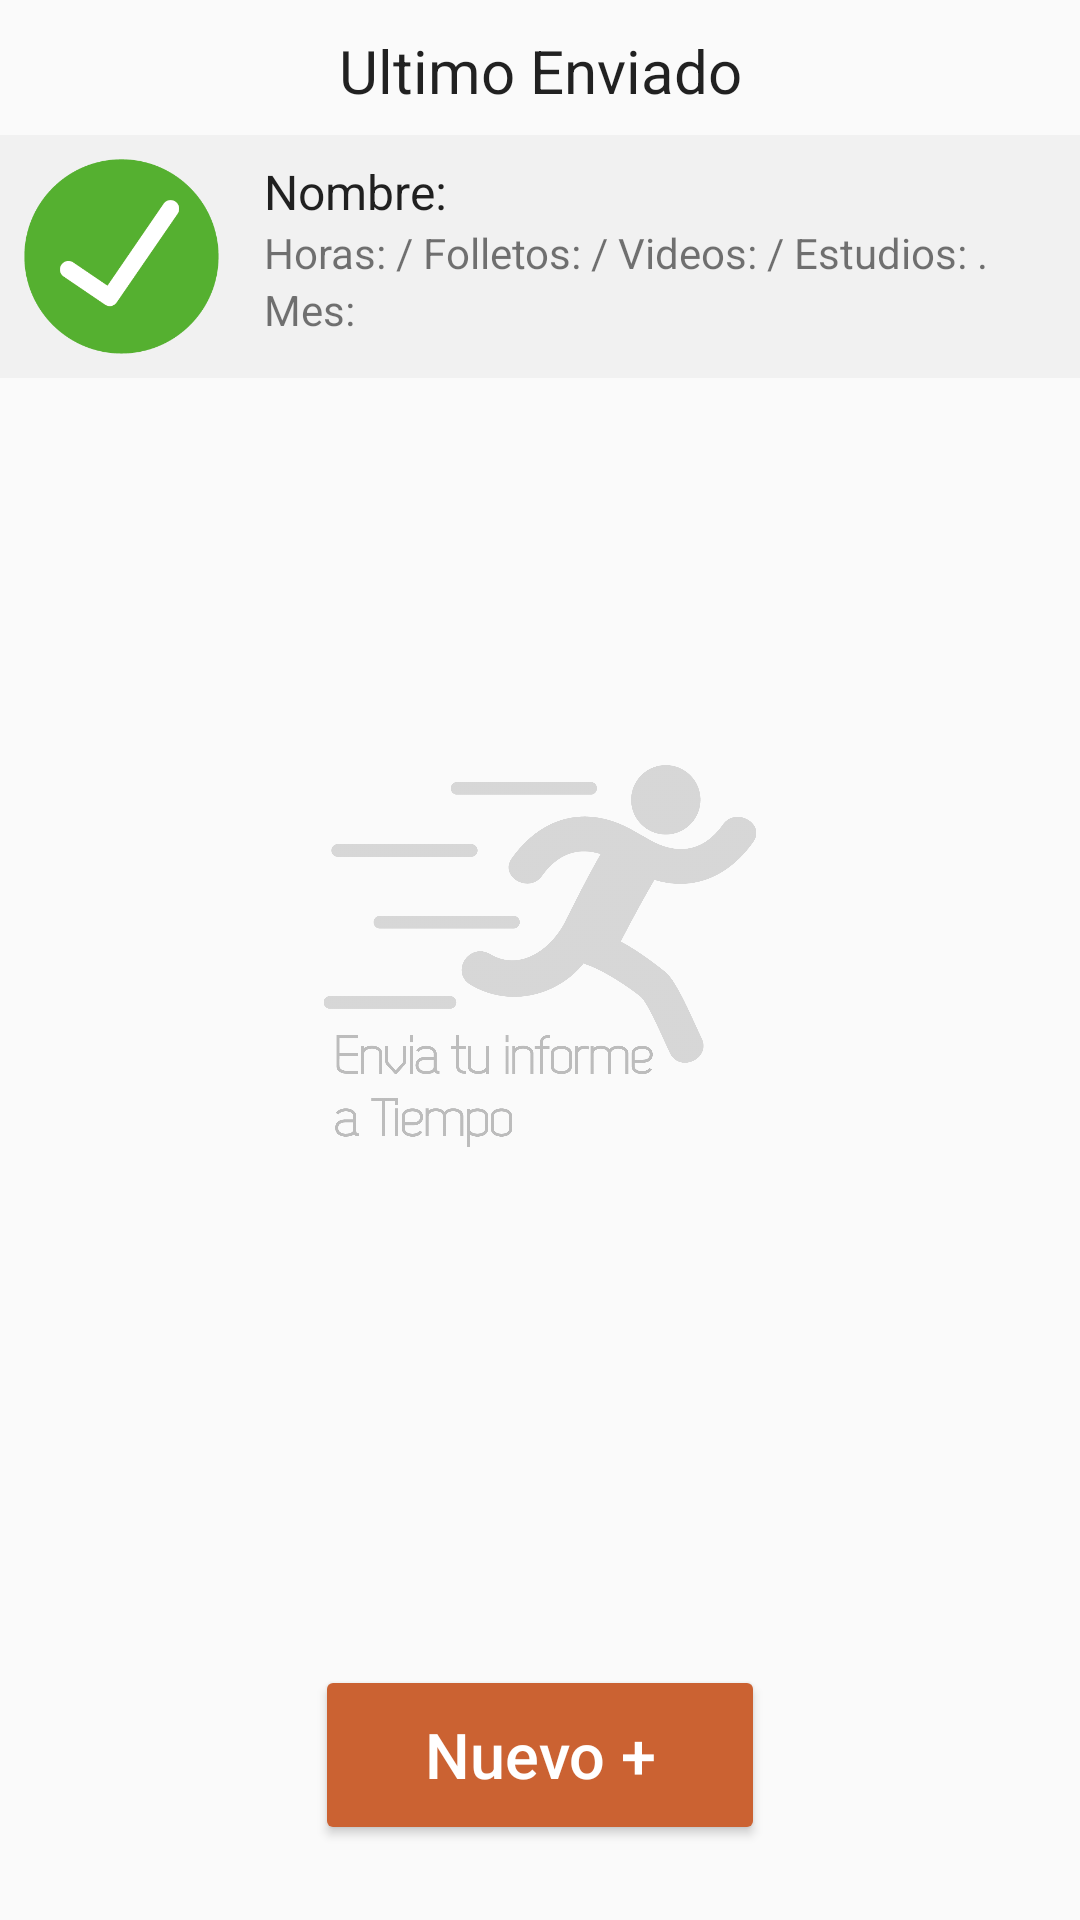

Screen size 1080x1920. Icon name, then its center in pixels as [x,y]:
listo: [121,256]
